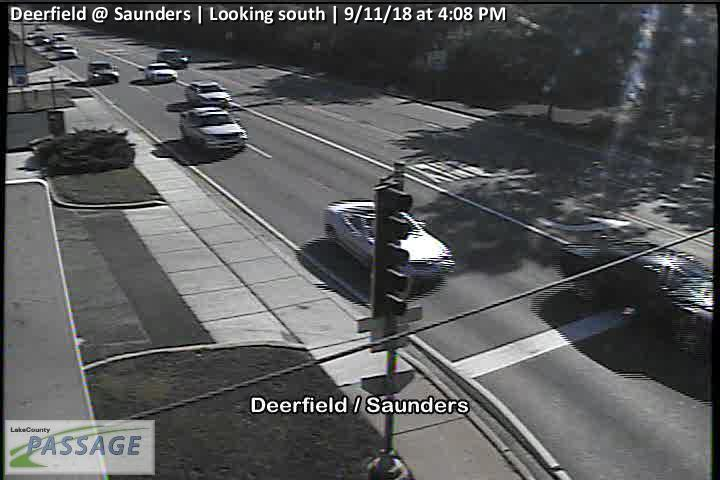Sedan: (321, 198, 455, 284), (561, 240, 712, 299), (178, 105, 249, 152), (185, 80, 231, 105), (87, 60, 121, 84), (143, 61, 178, 83)
